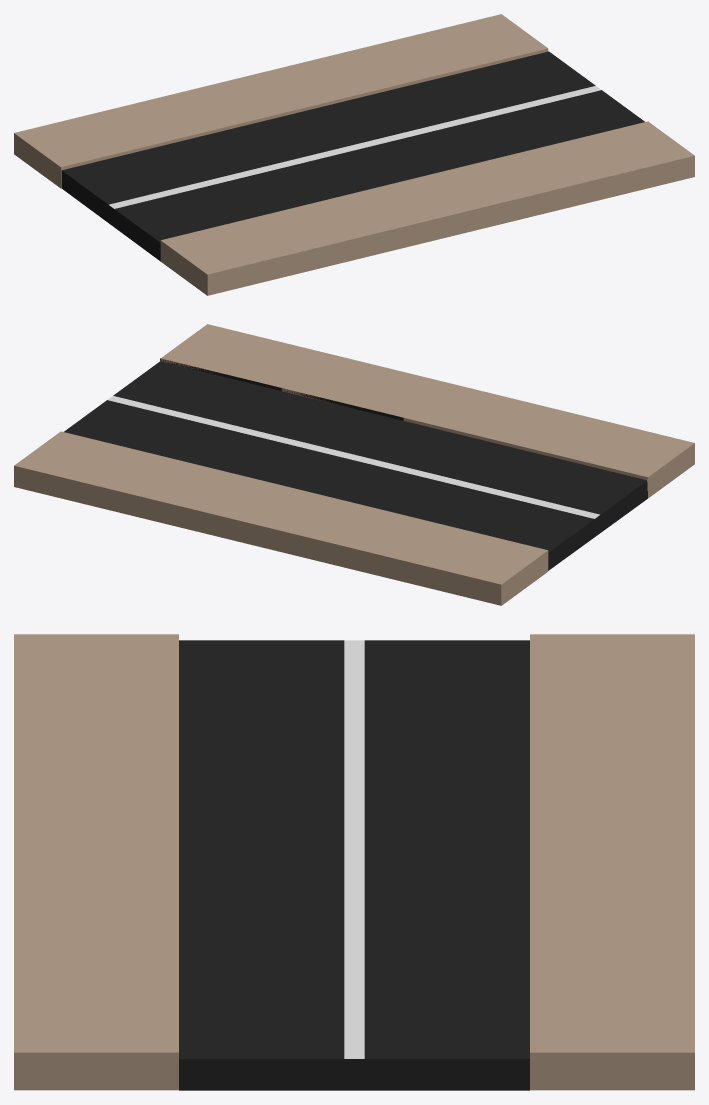
File: road_offset.fbx
3 views of the same model, one above another, from view 1: azimuth 30°, elevation 25°; view 2: azimuth 150°, elevation 25°; view 3: azimuth 270°, elevation 25° (orthographic). The views are drawn at different scales.
Visible parts, largest first — view 1: Cube.000; view 2: Cube.000; view 3: Cube.000.
Boxes of the visible parts, left/top/right/bottom form: Cube.000: left=14, top=14, right=694, bottom=295; Cube.000: left=14, top=324, right=694, bottom=605; Cube.000: left=14, top=634, right=694, bottom=1090.
Size of the model in its own units: 4806 by 200 by 3300.
